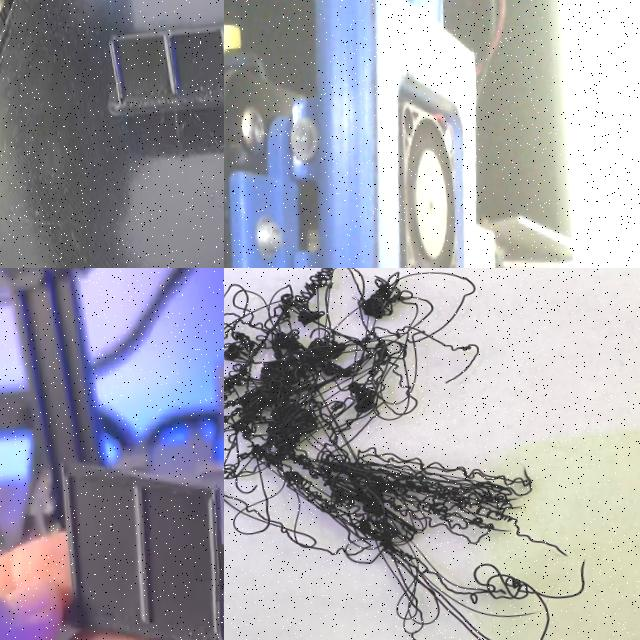spaghetti: (224, 268, 611, 640)
